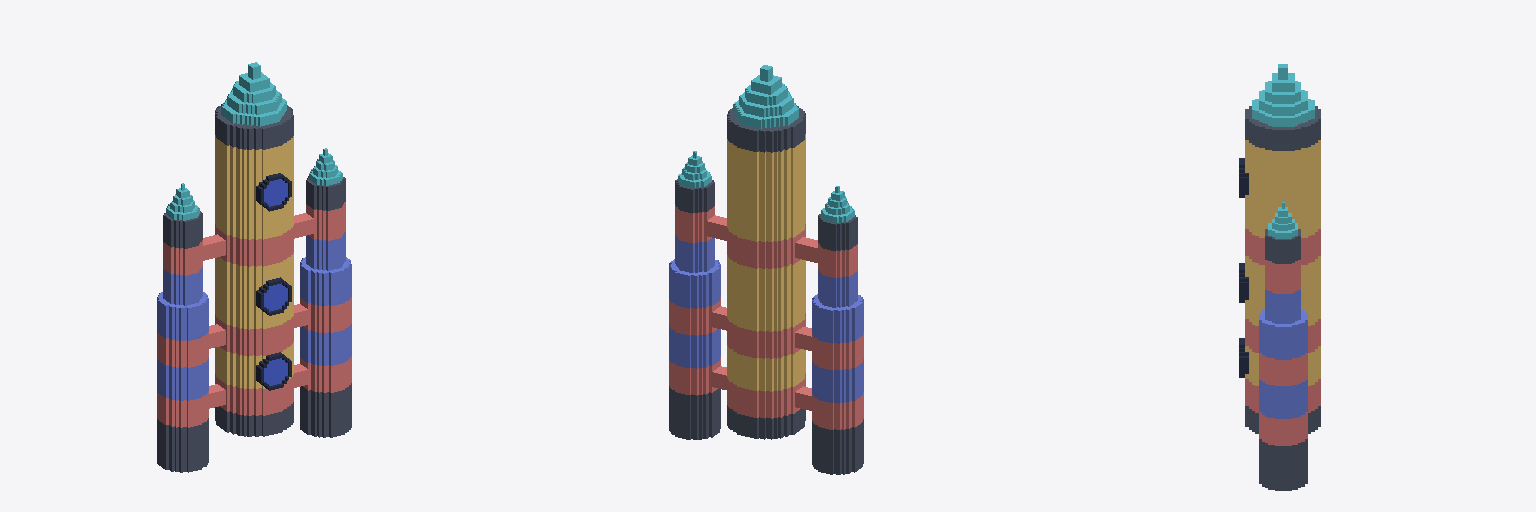
3 views of the same model, side by side, from view 1: azimuth 30°, elevation 25°; view 2: azimuth 150°, elevation 25°; view 3: azimuth 270°, elevation 25° (orthographic).
Parts seen in each view (by area): view 1: object 1; view 2: object 1; view 3: object 1.
Boxes of the visible parts, <box> form: object 1: <box>157,62,351,472</box>; object 1: <box>669,65,863,474</box>; object 1: <box>1239,64,1320,490</box>.
Bounding box in the file's own units: 6.5 × 12.7 × 2.5.
Materials: 1 (1 with a texture image).